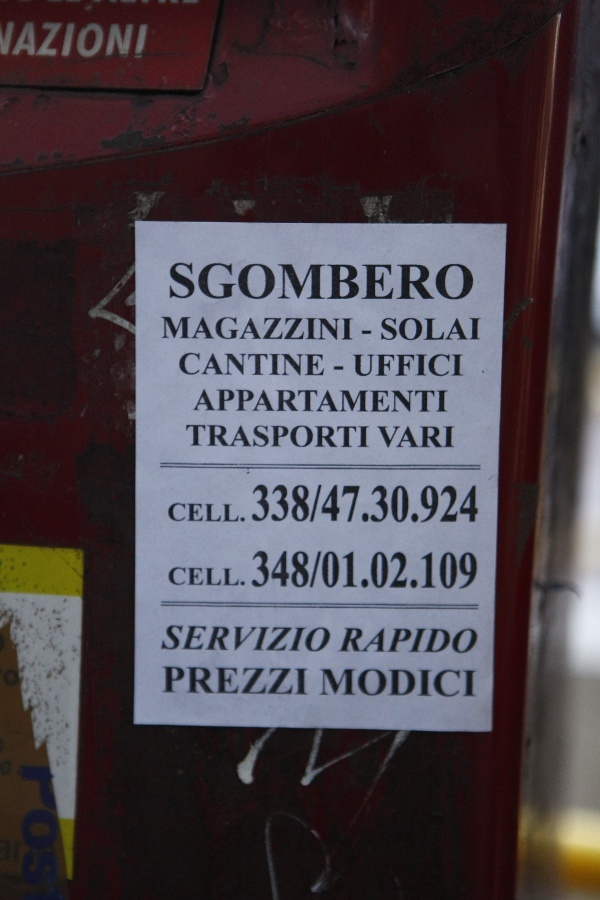text: (17, 763, 32, 895), (33, 763, 48, 895), (49, 763, 63, 895), (177, 260, 192, 302), (193, 260, 208, 302), (209, 260, 224, 302), (225, 260, 240, 302), (241, 260, 256, 302), (257, 260, 272, 302), (273, 260, 288, 302), (289, 260, 304, 302), (305, 260, 320, 302), (321, 260, 336, 302), (337, 260, 352, 302), (353, 260, 368, 302), (369, 260, 384, 302), (385, 260, 400, 302), (401, 260, 416, 302), (417, 260, 432, 302), (433, 260, 448, 302), (449, 260, 464, 302), (337, 550, 352, 590), (353, 550, 368, 590), (369, 550, 384, 590), (385, 550, 400, 590), (401, 550, 416, 590), (417, 550, 432, 590), (433, 550, 448, 590), (449, 550, 464, 590), (337, 486, 352, 524), (353, 486, 368, 524), (369, 486, 384, 524), (385, 486, 400, 524), (401, 486, 416, 524), (417, 486, 432, 524), (433, 486, 448, 524), (449, 486, 464, 524), (322, 550, 336, 590), (257, 551, 272, 588), (273, 551, 288, 588), (289, 551, 304, 588), (257, 485, 272, 522), (273, 485, 288, 522), (289, 485, 304, 522), (465, 486, 479, 524), (1, 22, 16, 57), (17, 22, 32, 57), (33, 22, 48, 57), (49, 22, 64, 57), (65, 22, 80, 57), (81, 22, 96, 57), (97, 22, 112, 57), (113, 22, 128, 57), (129, 22, 144, 57), (465, 550, 478, 590), (465, 260, 476, 302), (324, 486, 336, 524), (177, 666, 192, 696), (193, 666, 208, 696), (209, 666, 224, 696), (225, 666, 240, 696), (241, 666, 256, 696), (257, 666, 272, 696), (273, 666, 288, 696), (289, 666, 304, 696), (177, 624, 192, 653), (193, 624, 208, 653), (209, 624, 224, 653), (225, 624, 240, 653), (241, 624, 256, 653), (257, 624, 272, 653), (273, 624, 288, 653), (289, 624, 304, 653), (305, 624, 320, 653), (321, 670, 336, 698), (337, 670, 352, 698), (353, 670, 368, 698), (369, 670, 384, 698), (385, 670, 400, 698), (401, 670, 416, 698), (417, 670, 432, 698), (433, 670, 448, 698), (449, 670, 464, 698), (1, 838, 16, 866), (465, 316, 481, 342), (385, 316, 400, 342), (401, 316, 416, 342), (417, 316, 432, 342), (433, 316, 448, 342), (449, 316, 464, 342), (163, 666, 176, 696), (353, 628, 368, 654), (369, 628, 384, 654), (385, 628, 400, 654), (401, 628, 416, 654), (417, 628, 432, 654), (433, 628, 448, 654), (449, 628, 464, 654), (433, 390, 449, 414), (310, 485, 320, 523), (310, 551, 320, 589), (193, 353, 208, 377), (209, 353, 224, 377), (225, 353, 240, 377), (241, 353, 256, 377), (257, 353, 272, 377), (273, 353, 288, 377), (289, 353, 304, 377), (305, 353, 320, 377), (209, 390, 224, 414), (225, 390, 240, 414), (241, 390, 256, 414), (257, 390, 272, 414), (273, 390, 288, 414), (289, 390, 304, 414), (305, 390, 320, 414), (321, 390, 336, 414), (337, 390, 352, 414), (353, 390, 368, 414), (369, 390, 384, 414), (385, 390, 400, 414), (401, 390, 416, 414), (417, 390, 432, 414), (161, 318, 176, 341), (177, 318, 192, 341), (193, 318, 208, 341), (209, 318, 224, 341), (225, 318, 240, 341), (241, 318, 256, 341), (257, 318, 272, 341), (273, 318, 288, 341), (289, 318, 304, 341), (305, 318, 320, 341), (321, 318, 336, 341), (337, 318, 352, 341), (353, 354, 368, 377), (369, 354, 384, 377), (385, 354, 400, 377), (401, 354, 416, 377), (417, 354, 432, 377), (433, 354, 448, 377), (193, 426, 208, 449), (209, 426, 224, 449), (225, 426, 240, 449), (241, 426, 256, 449), (257, 426, 272, 449), (273, 426, 288, 449), (289, 426, 304, 449), (305, 426, 320, 449), (321, 426, 336, 449), (337, 426, 352, 449), (353, 426, 368, 449), (465, 628, 478, 654), (465, 670, 477, 698), (385, 427, 400, 449), (401, 427, 416, 449), (417, 427, 432, 449), (433, 427, 448, 449), (449, 354, 463, 377), (165, 624, 176, 653), (321, 624, 332, 653), (177, 502, 192, 523), (193, 502, 208, 523), (209, 502, 224, 523), (225, 502, 240, 523), (169, 260, 176, 302), (180, 353, 192, 377), (177, 567, 192, 586), (193, 567, 208, 586), (209, 567, 224, 586), (225, 567, 240, 586), (305, 485, 310, 522), (345, 628, 352, 654), (377, 427, 384, 449), (252, 551, 256, 588), (305, 551, 309, 588), (169, 502, 176, 523), (202, 390, 208, 414), (17, 838, 22, 866), (186, 426, 192, 449), (169, 567, 176, 586), (449, 427, 455, 449), (305, 666, 309, 696), (253, 485, 256, 522), (145, 22, 148, 57), (241, 502, 246, 523), (381, 316, 384, 342), (241, 567, 245, 586), (321, 485, 323, 523), (321, 353, 324, 377), (321, 551, 322, 589), (337, 366, 344, 370), (362, 331, 368, 335), (353, 318, 354, 341), (369, 426, 370, 449), (369, 331, 372, 335), (334, 366, 336, 370)
